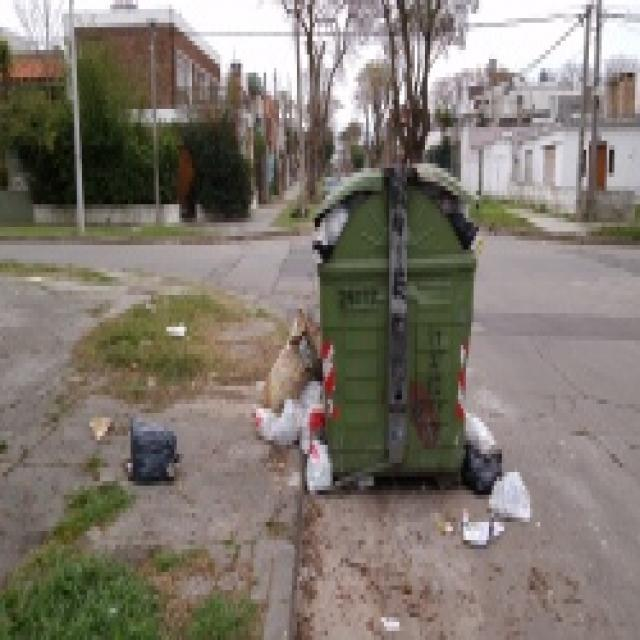garbage: (251, 304, 320, 486), (453, 395, 530, 554), (115, 404, 179, 486)
